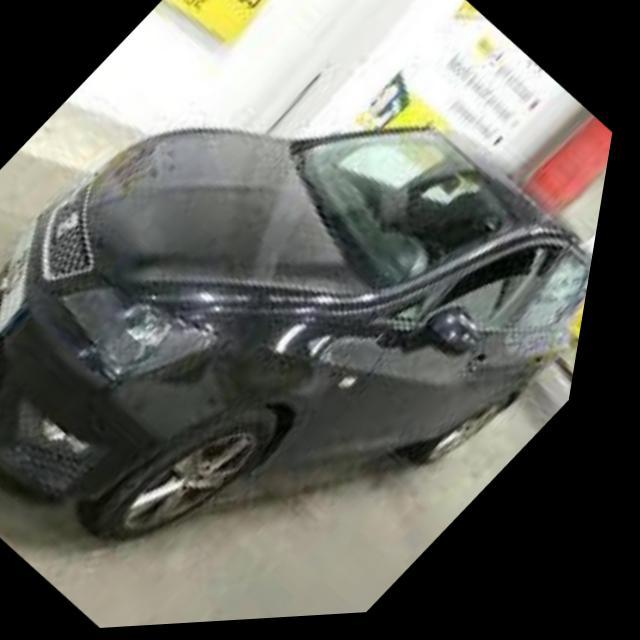crack: (83, 342, 128, 394)
